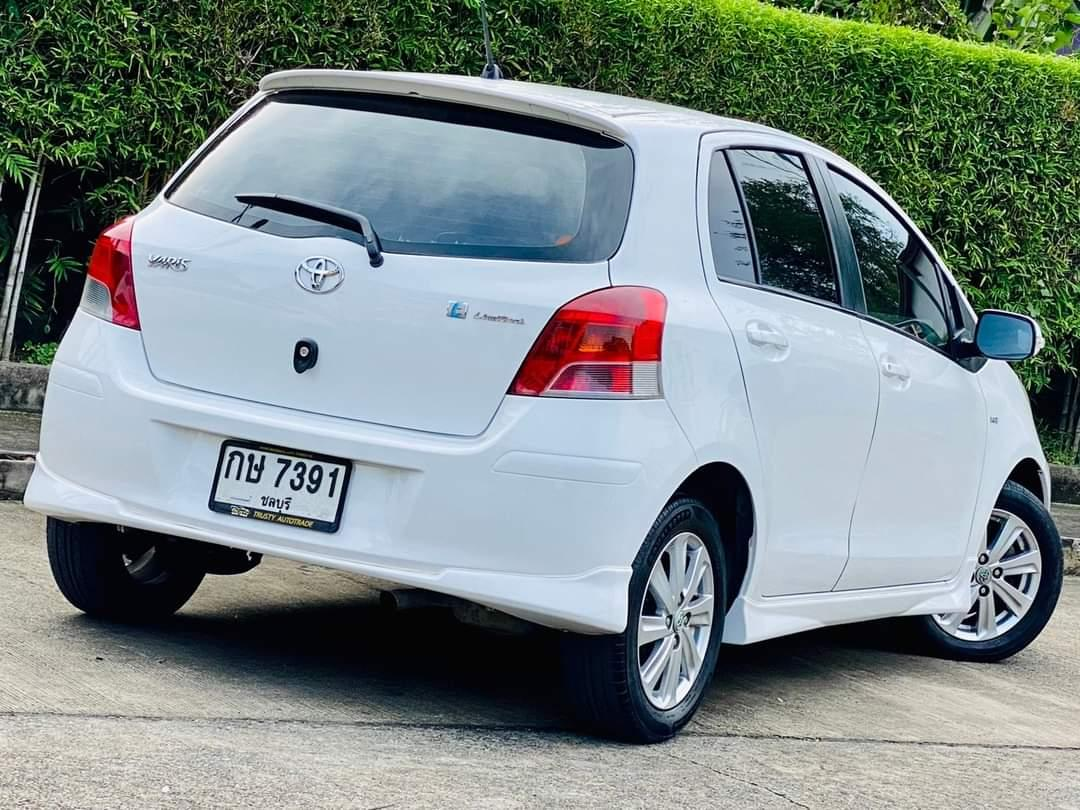license-plate: (207, 436, 355, 537)
